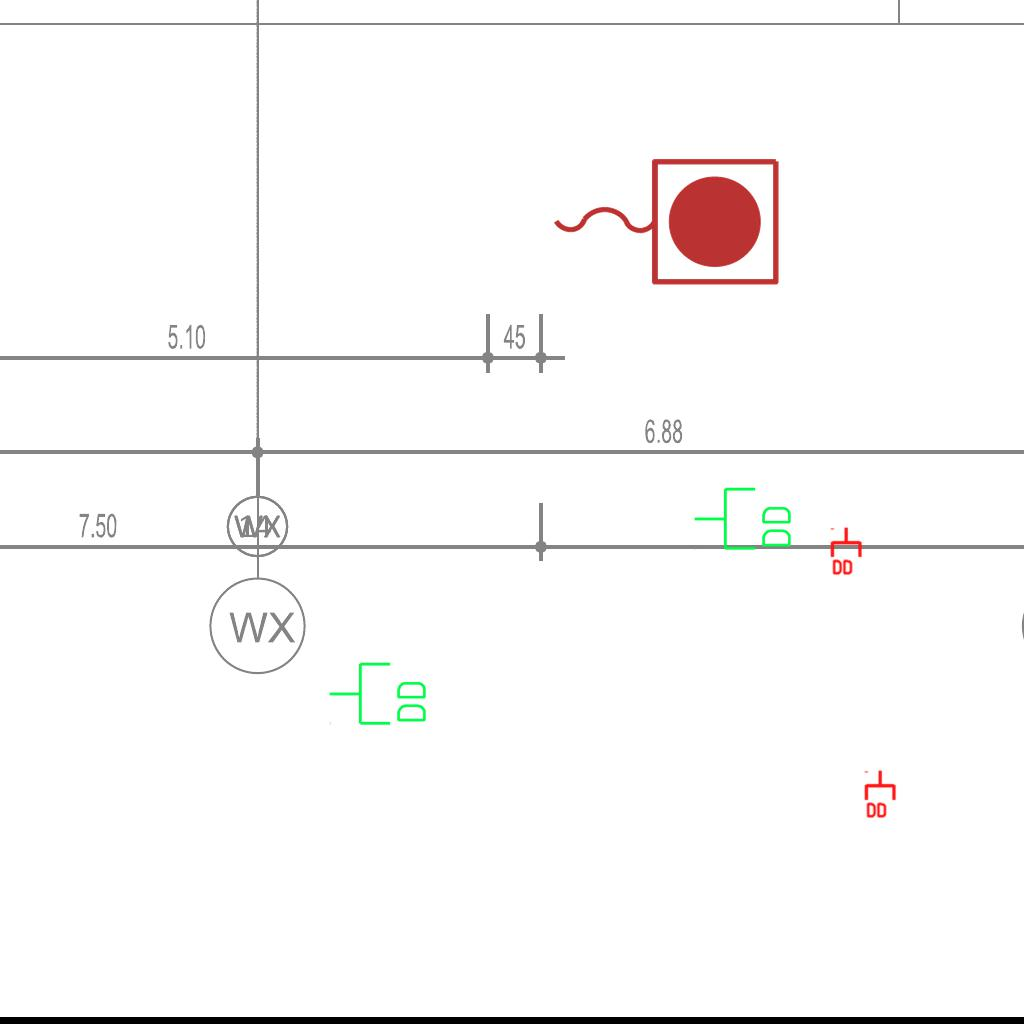Datenanschluss_zweifach: (327, 660, 430, 729), (692, 485, 795, 554), (864, 769, 898, 820), (830, 526, 864, 577)
Zugtaster: (543, 148, 787, 292)
